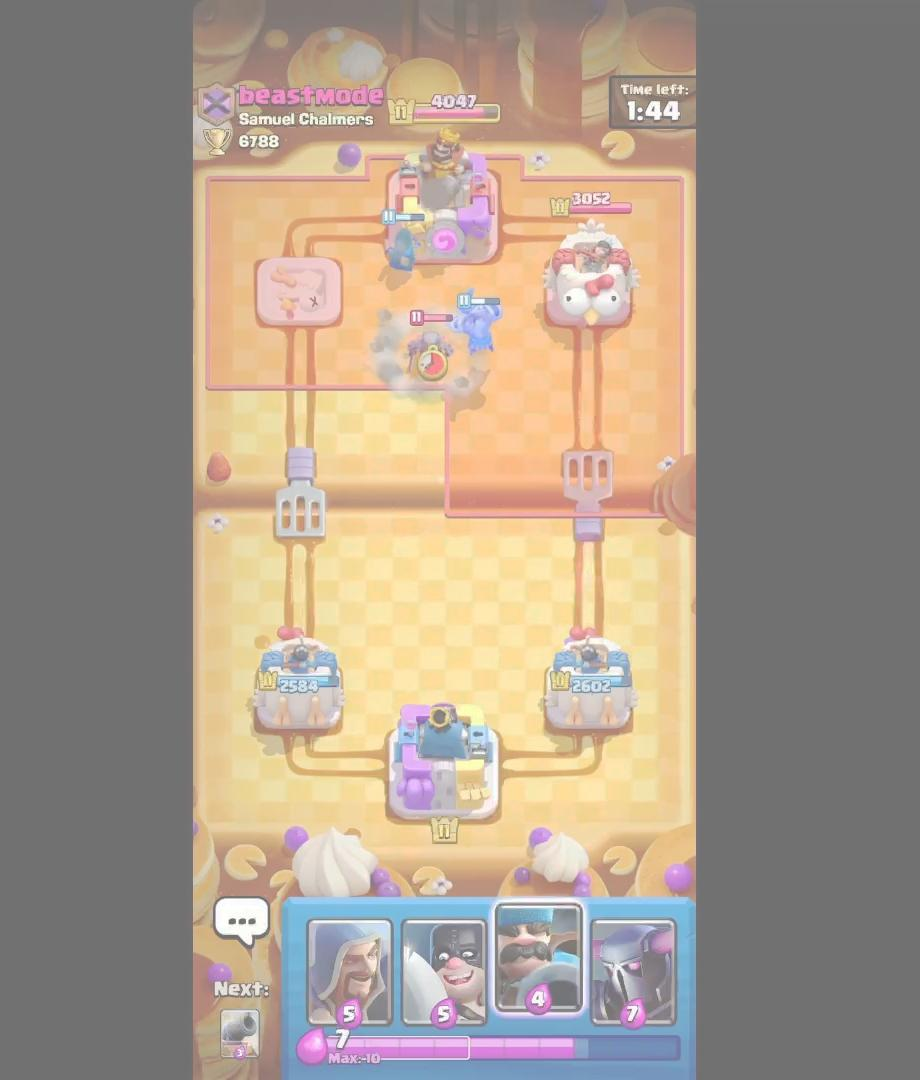Mini Pekka: (398, 307, 464, 378)
